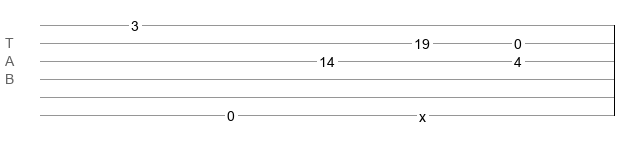0: (227, 108, 235, 118), (514, 36, 522, 46)
14: (319, 54, 335, 64)
19: (414, 36, 430, 46)
3: (131, 18, 139, 28)
4: (514, 54, 522, 64)
x: (419, 109, 426, 117)
